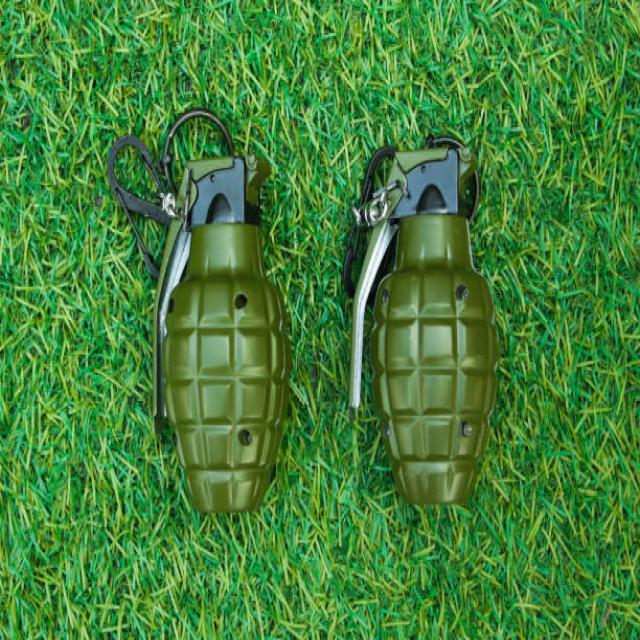grenade: (106, 109, 294, 520), (336, 122, 509, 509)
